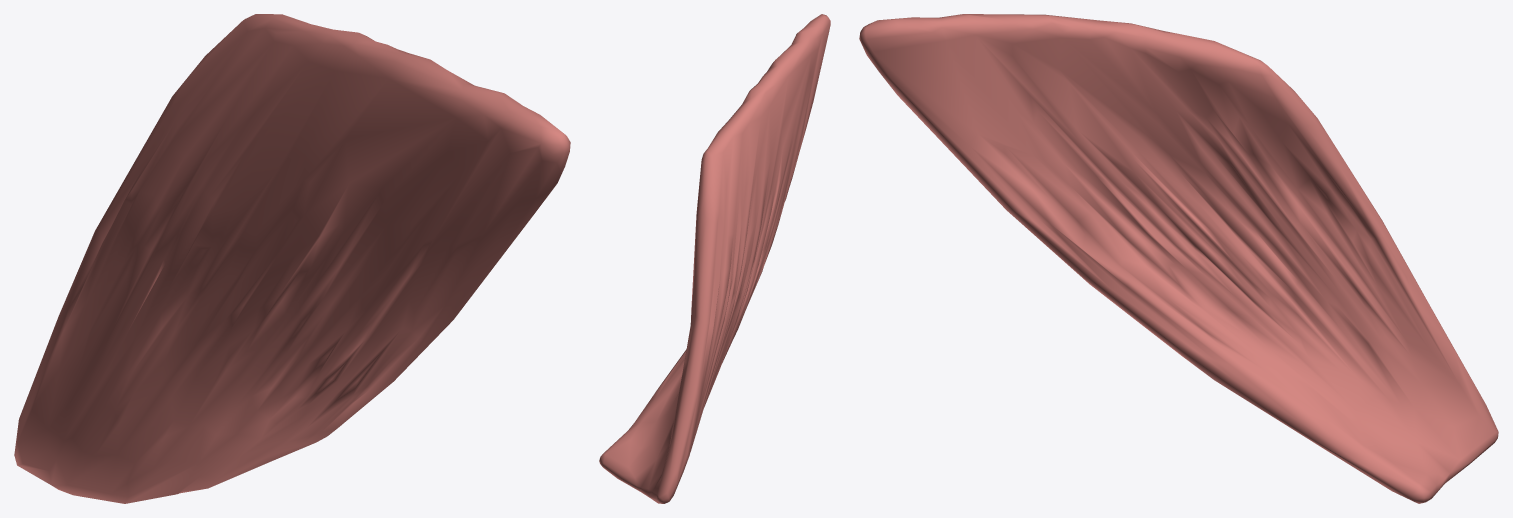
The picture shows the model from 3 angles, left to right: view 1: azimuth 30°, elevation 25°; view 2: azimuth 150°, elevation 25°; view 3: azimuth 270°, elevation 25°; orthographic projection. The views are drawn at different scales.
Parts seen in each view (by area): view 1: ZA_c56ad02dbb1eb6b8; view 2: ZA_c56ad02dbb1eb6b8; view 3: ZA_c56ad02dbb1eb6b8.
Boxes of the visible parts, left/top/right/bottom form: ZA_c56ad02dbb1eb6b8: left=14, top=14, right=570, bottom=503; ZA_c56ad02dbb1eb6b8: left=599, top=14, right=830, bottom=503; ZA_c56ad02dbb1eb6b8: left=859, top=14, right=1498, bottom=503.
Bounding box in the file's own units: 0.00787 × 0.0253 × 0.0307.
